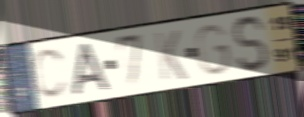7: (115, 31, 145, 90)
A: (71, 40, 113, 98)
C: (31, 46, 69, 102)
G: (194, 22, 234, 78)
K: (153, 28, 189, 83)
S: (230, 14, 274, 74)
